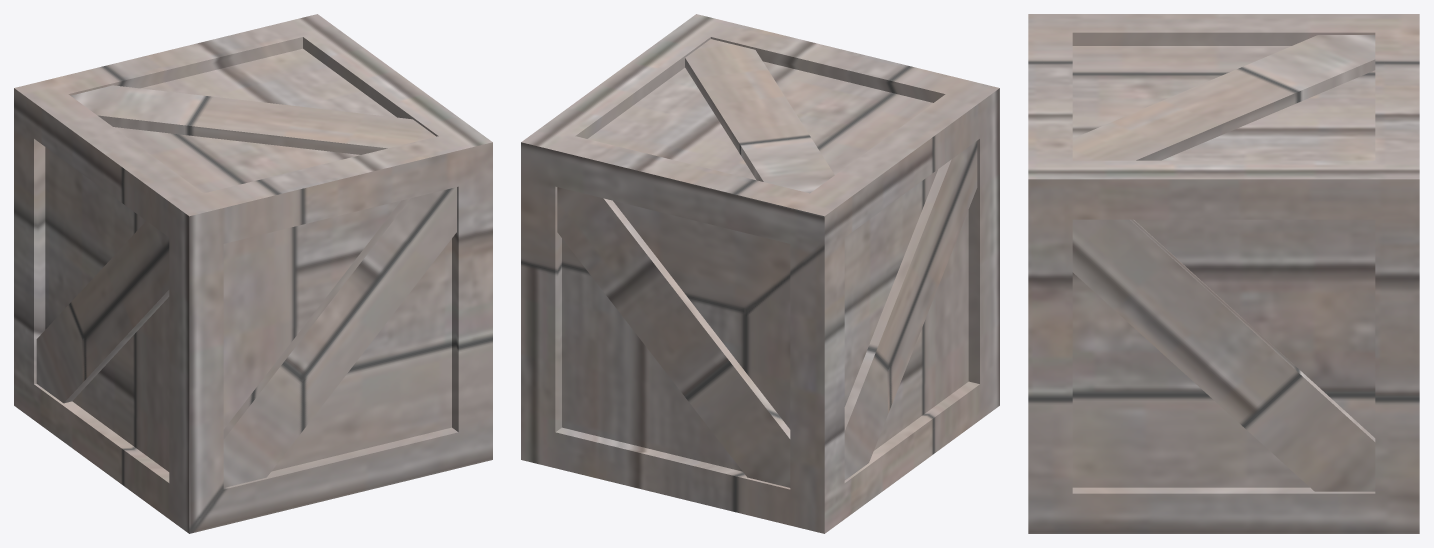
Rendered from Wooden box.fbx.
The picture shows the model from 3 angles, left to right: view 1: azimuth 30°, elevation 25°; view 2: azimuth 150°, elevation 25°; view 3: azimuth 270°, elevation 25°; orthographic projection. The views are drawn at different scales.
Parts seen in each view (by area): view 1: Cube.010; view 2: Cube.010; view 3: Cube.010.
Boxes of the visible parts, x1,y1,x2,y2 form: Cube.010: [14, 14, 492, 533]; Cube.010: [521, 14, 999, 533]; Cube.010: [1028, 14, 1419, 533].
Bounding box in the file's own units: 2 × 2 × 2.
Materials: 1 (1 with a texture image).
